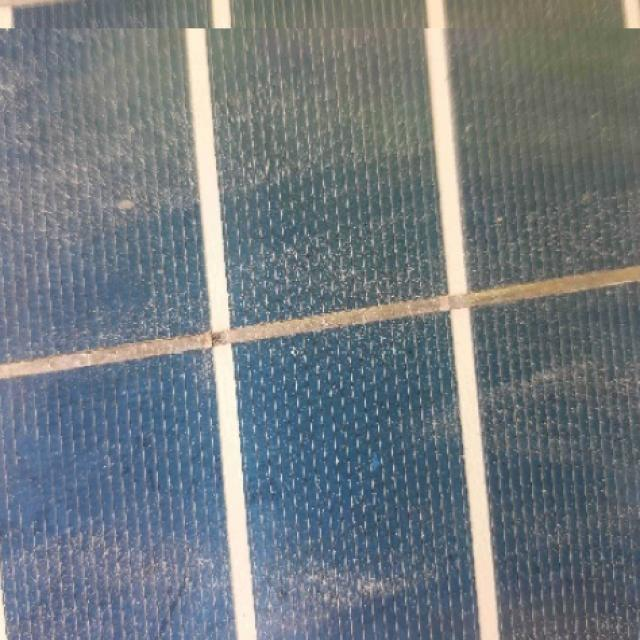Dirty: (0, 28, 640, 640)
